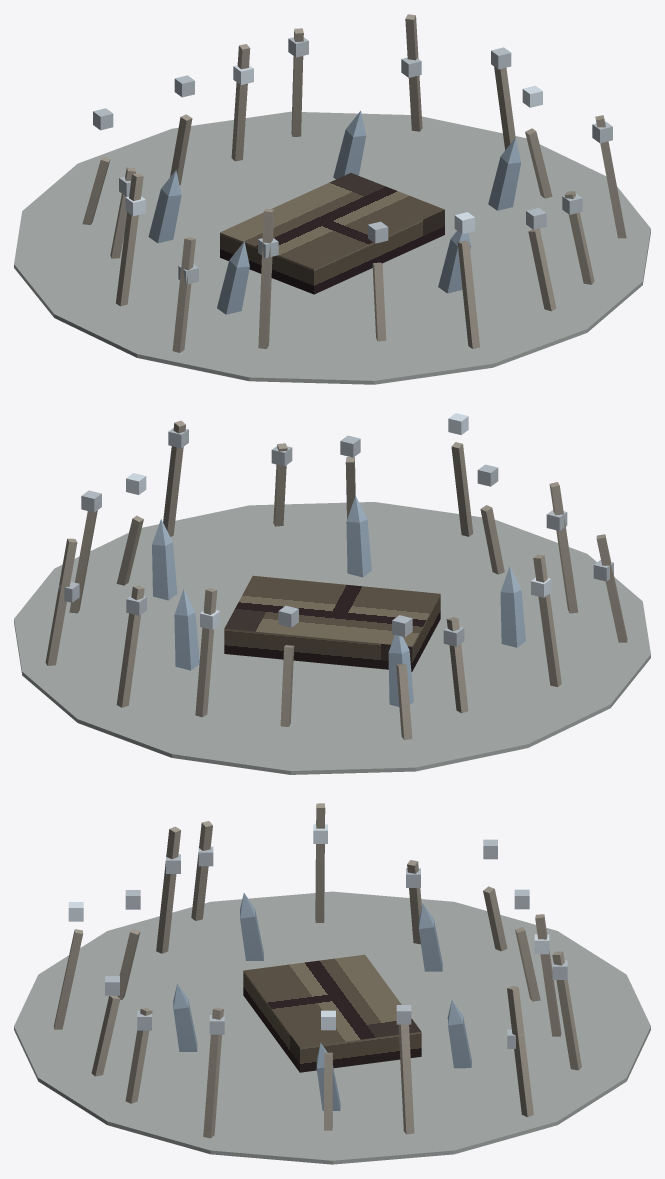
File: frost_scar.glb
3 views of the same model, one above another, from view 1: azimuth 30°, elevation 25°; view 2: azimuth 150°, elevation 25°; view 3: azimuth 270°, elevation 25° (orthographic).
Visible parts, largest first — view 1: frost_scar; view 2: frost_scar; view 3: frost_scar.
Part boxes in pixels (left/top/right/bottom): frost_scar: left=14, top=14, right=650, bottom=384; frost_scar: left=14, top=413, right=650, bottom=774; frost_scar: left=14, top=803, right=650, bottom=1164.
Size of the model in its own units: 3 by 0.7074 by 3.
3 materials, 1 textured.
